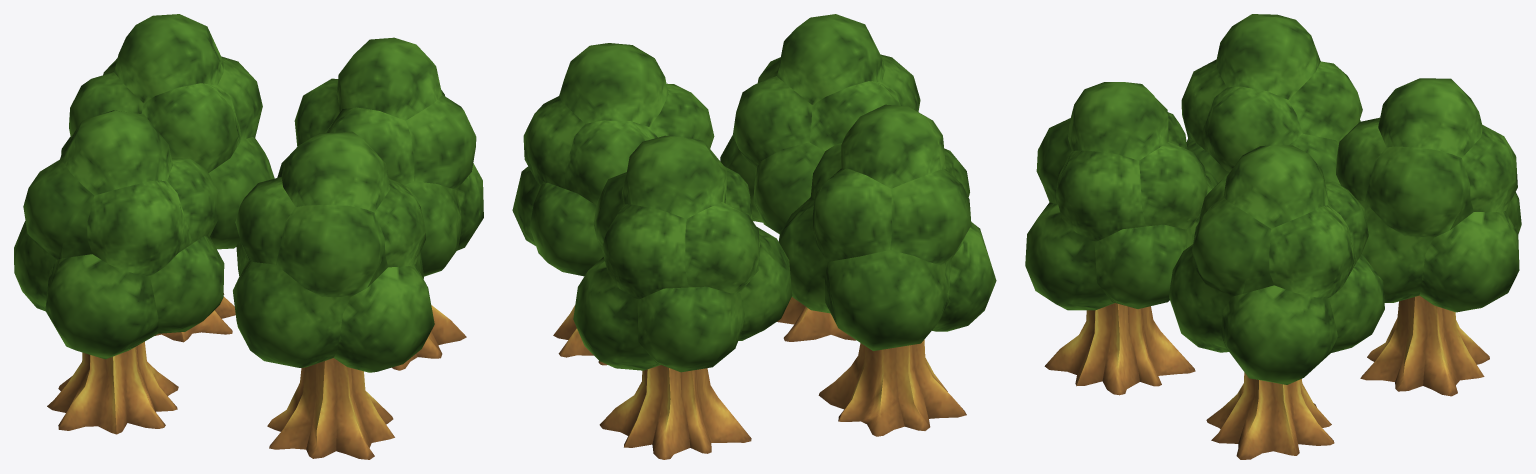
The model's file is Tree 4.fbx.
The picture shows the model from 3 angles, left to right: view 1: azimuth 30°, elevation 25°; view 2: azimuth 150°, elevation 25°; view 3: azimuth 270°, elevation 25°; orthographic projection. The views are drawn at different scales.
Parts seen in each view (by area): view 1: tree4; view 2: tree4; view 3: tree4.
Part boxes in pixels (bbox=[...]): tree4: bbox=[14, 14, 483, 459]; tree4: bbox=[512, 14, 996, 459]; tree4: bbox=[1025, 14, 1521, 459].
Bounding box in the file's own units: 3.23 × 2.05 × 3.24.
